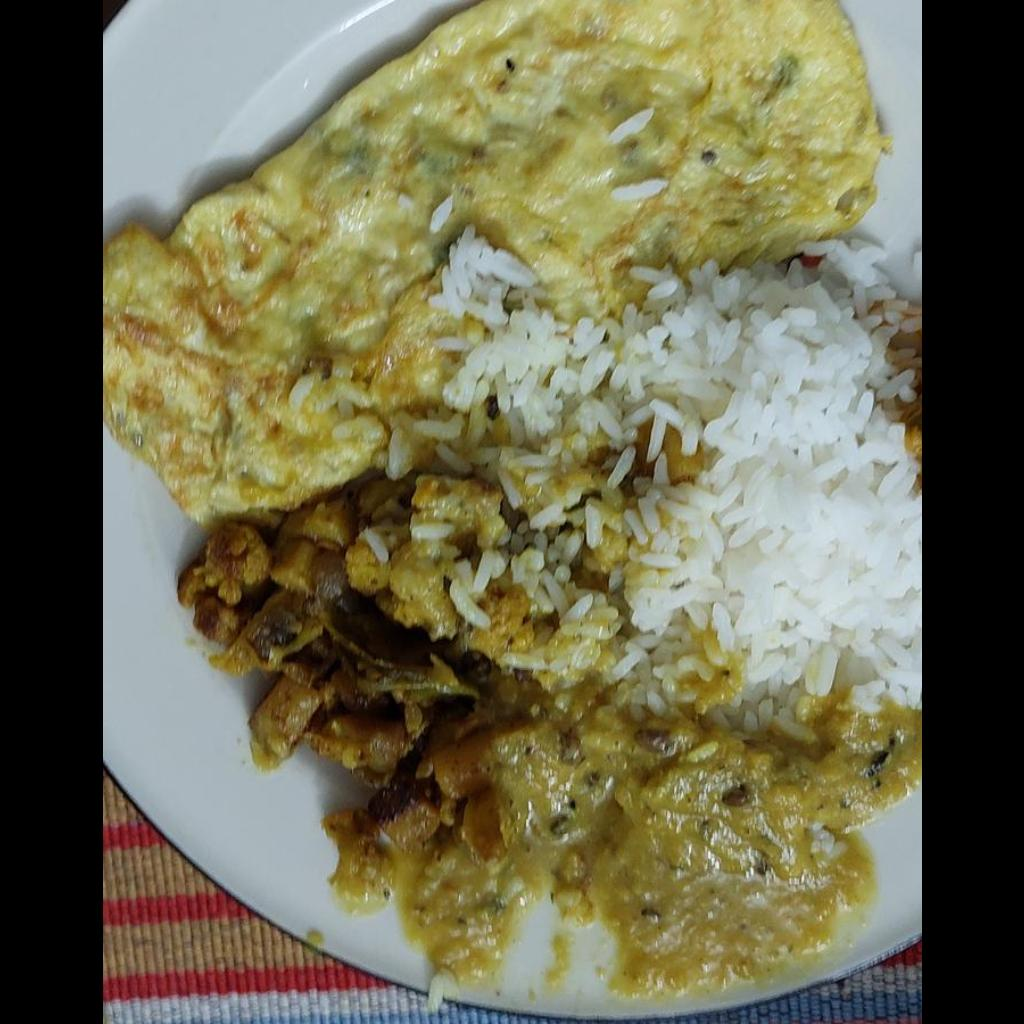beef: (550, 733, 920, 991), (178, 501, 466, 775)
daal: (325, 708, 920, 997)
egg: (104, 0, 881, 519)
rice: (460, 263, 920, 710)
